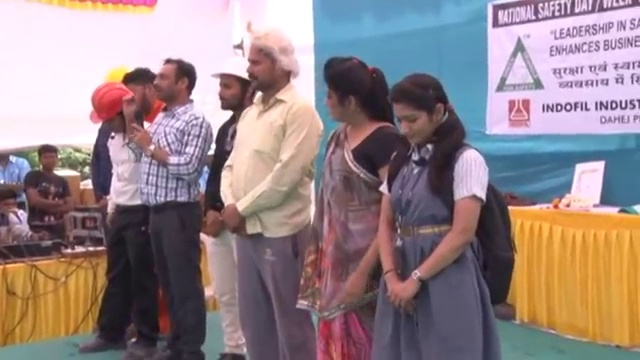helmet: (84, 80, 134, 123), (208, 43, 252, 83)
helmet_off: (316, 52, 388, 144), (388, 68, 455, 154), (241, 31, 302, 92), (148, 57, 197, 111), (120, 67, 159, 124), (38, 146, 58, 174), (0, 188, 19, 217)
helmet_on: (85, 79, 137, 137), (209, 48, 251, 118)
person: (374, 50, 508, 360), (217, 29, 322, 360), (307, 51, 404, 360), (136, 53, 213, 360), (85, 80, 160, 360), (203, 45, 253, 359), (24, 146, 70, 238), (0, 148, 31, 212), (0, 188, 32, 246)
